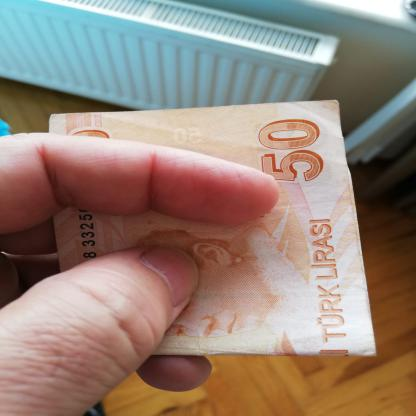5 TL: (49, 99, 380, 359)
